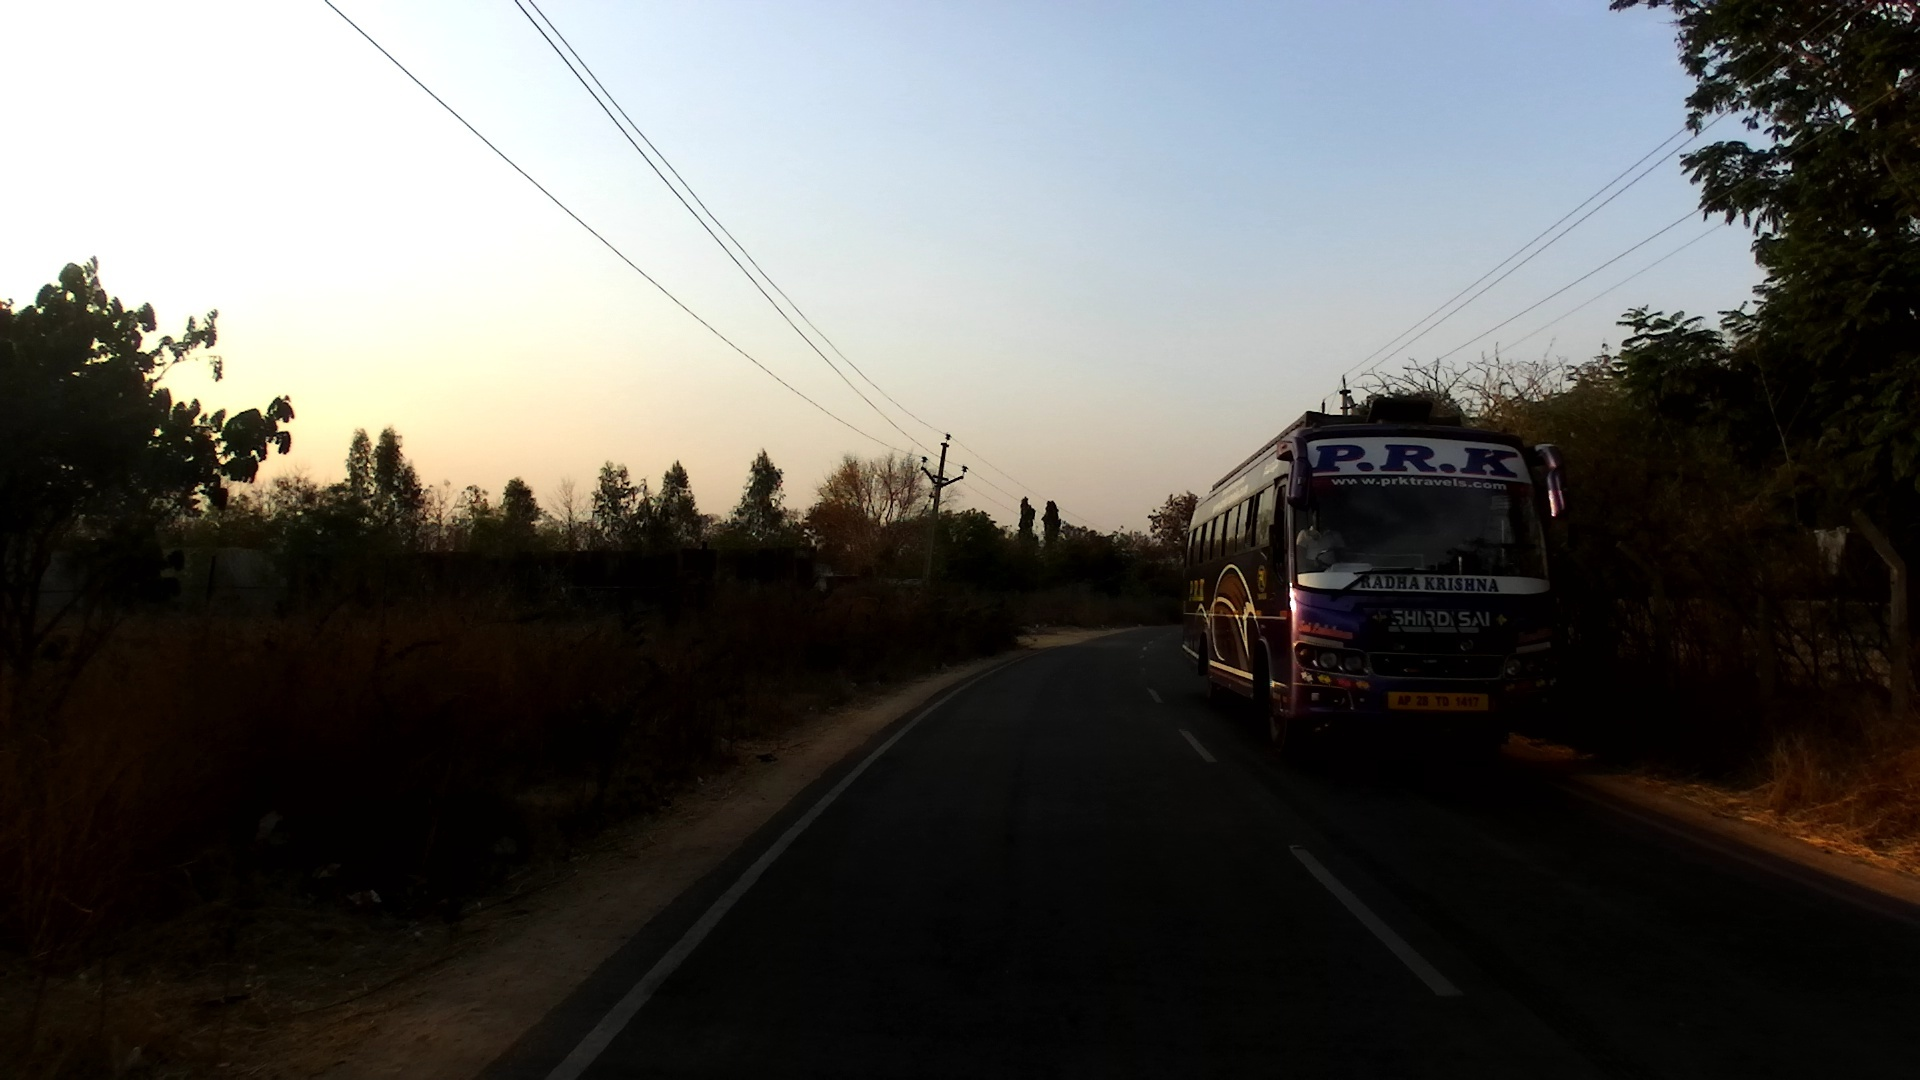bus: (1178, 409, 1567, 786)
